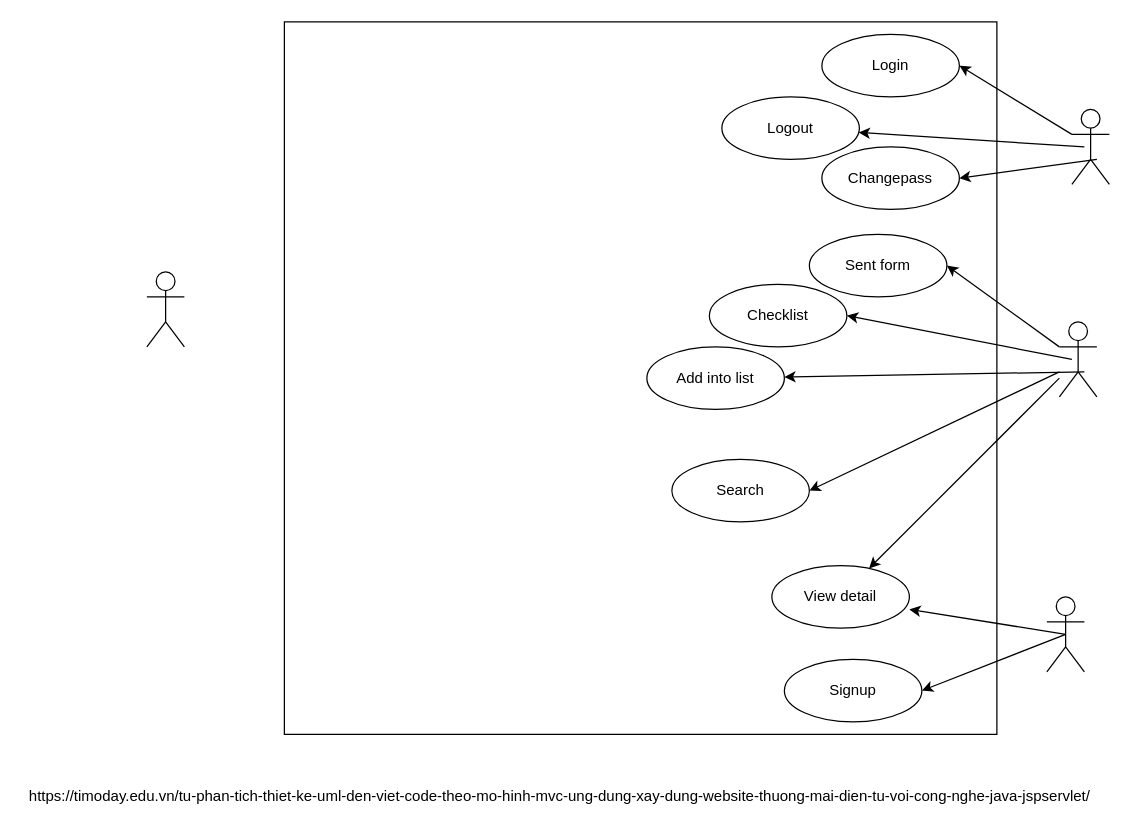
The diagram is 1131 pixels wide and 831 high, and some of its shapes have lost their labels. The shapes that lost their labels are listed below. From the top down, each one's centre as x and y in pixels, then its label:
At point (1090, 146): "User".
At point (165, 309): "Admin".
At point (1077, 359): "Customer".
At point (1065, 634): "Guess".
